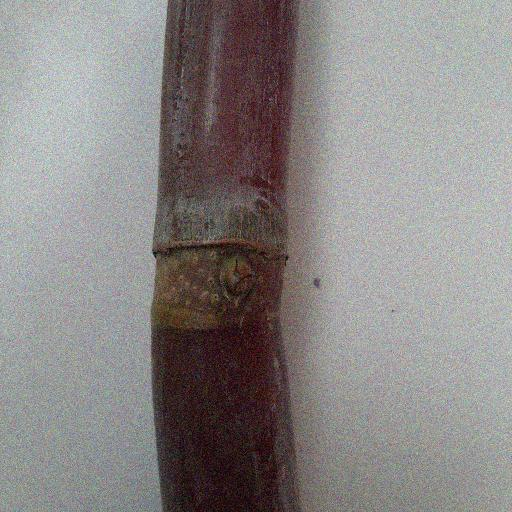Bud: (218, 255, 255, 307)
